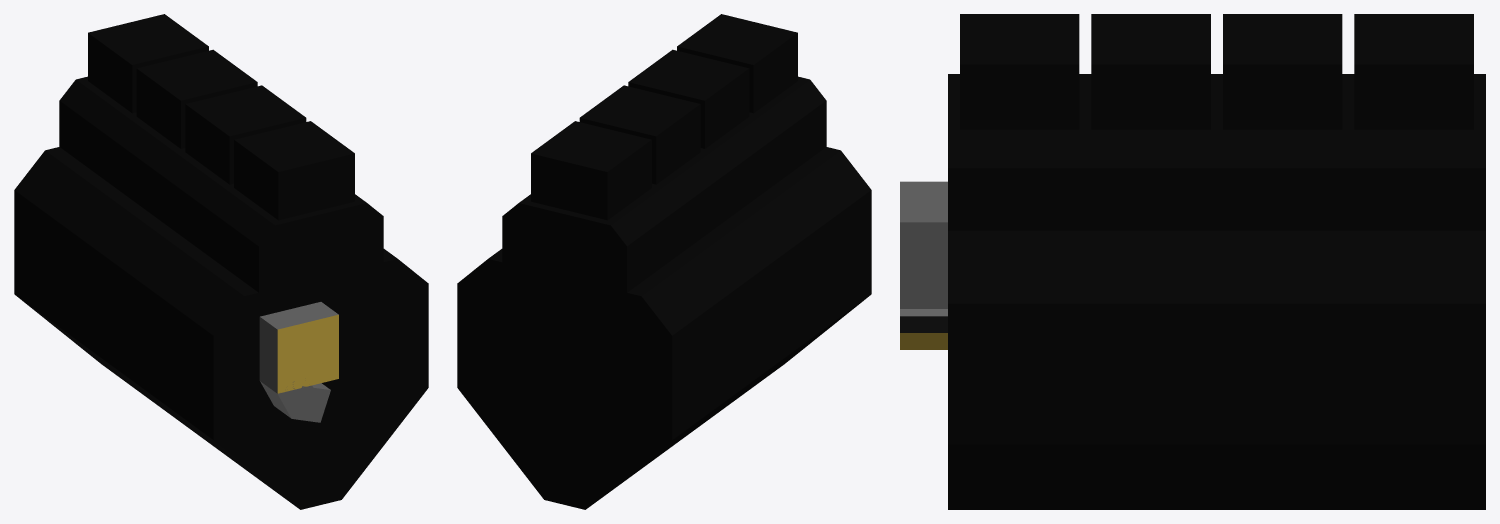
Rendered from v4inlinetorquelineturbo.obj.
3 views of the same model, side by side, from view 1: azimuth 30°, elevation 25°; view 2: azimuth 150°, elevation 25°; view 3: azimuth 270°, elevation 25° (orthographic). The views are drawn at different scales.
Parts seen in each view (by area): view 1: cube, turbo; view 2: cube; view 3: cube, turbo.
Part boxes in pixels (left/top/right/bottom): cube: left=14, top=14, right=428, bottom=509; turbo: left=259, top=302, right=338, bottom=422; cube: left=457, top=14, right=871, bottom=509; cube: left=948, top=14, right=1485, bottom=509; turbo: left=900, top=181, right=947, bottom=349.
Bounding box in the file's own units: 0.5388 × 0.812 × 0.9428.
